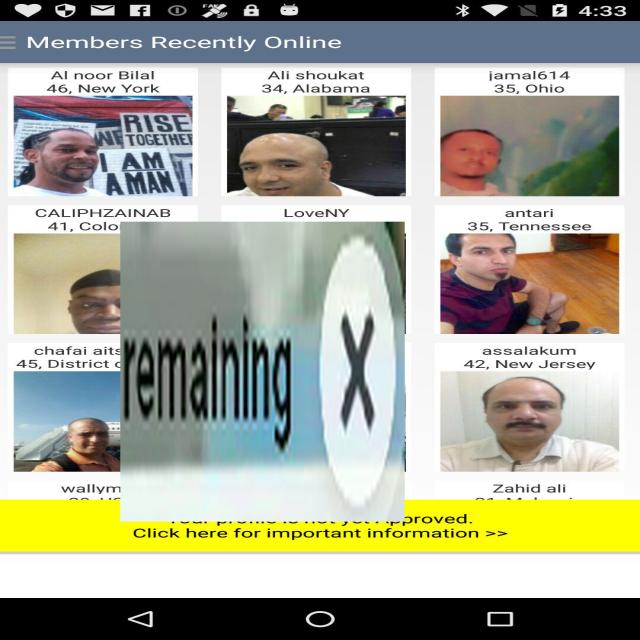misdirection: (120, 222, 405, 522)
